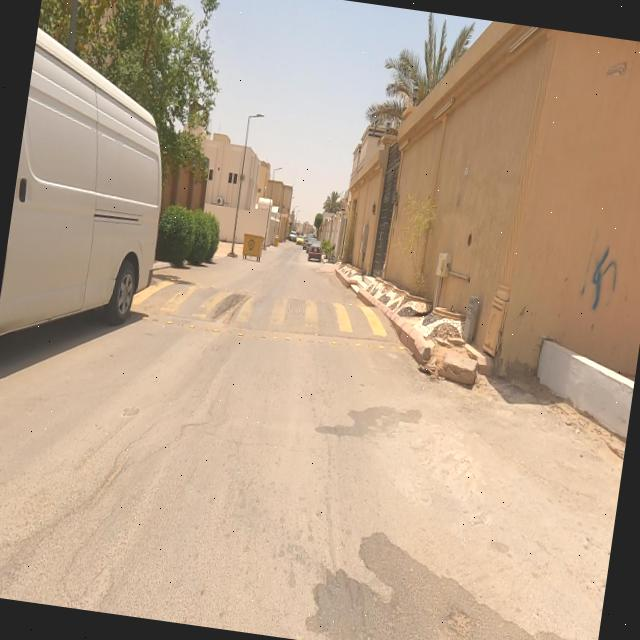Graffiti: (581, 225, 626, 313)
